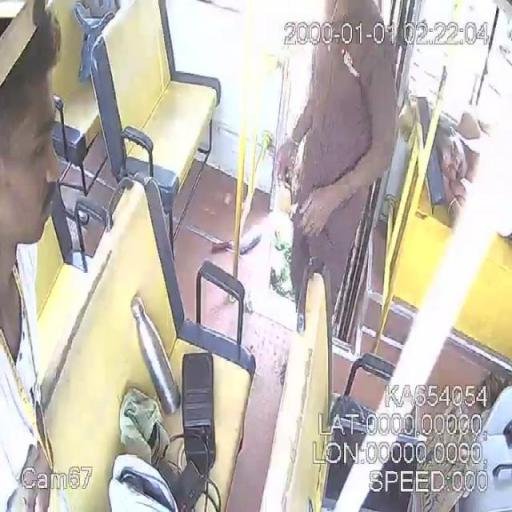persona: (274, 1, 400, 336), (0, 0, 70, 512)
